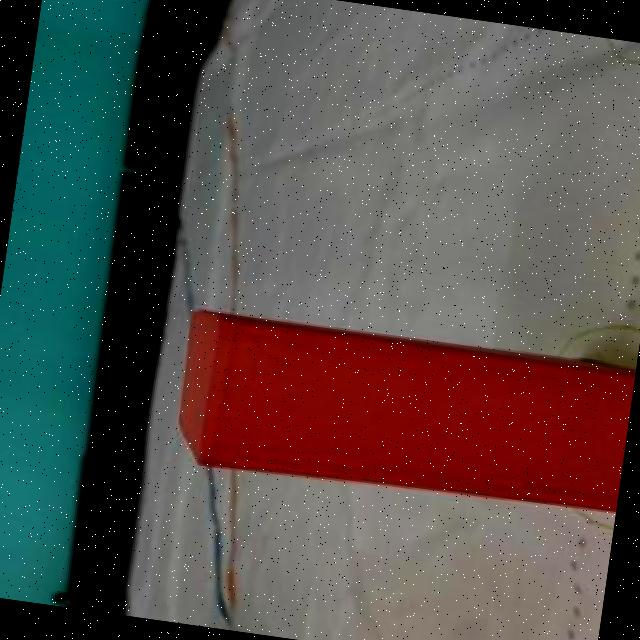redbox: (172, 310, 636, 513)
